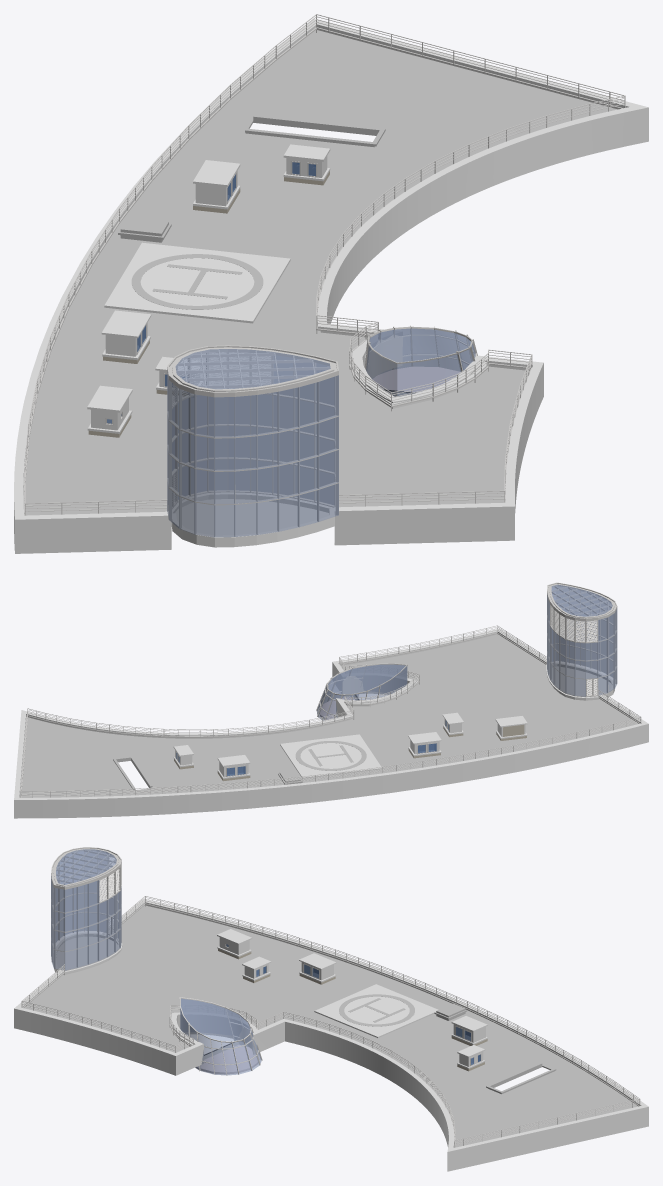
3 views of the same model, one above another, from view 1: azimuth 30°, elevation 25°; view 2: azimuth 150°, elevation 25°; view 3: azimuth 270°, elevation 25° (orthographic). The views are drawn at different scales.
Visible parts, largest first — view 1: A1-25F-Roof Floor, A1-25F-Roof Dry Wall1, Object003, A1-25F-Hand Rail, Object004, A1-25F-Heliport, A1-25F-Dry Area, A1-25F-Terrace Floor2, Object001, Object008, A1-25F-Terrace Floor1, A1-25F-Roof Dry Wall3 (+3 smaller); view 2: A1-25F-Roof Floor, A1-25F-Roof Dry Wall1, A1-25F-Hand Rail, Object003, Object004, A1-25F-Heliport, A1-25F-Dry Area, Object001, Object005, A1-25F-Terrace Floor2, A1-25F-Roof Dry Wall2, Object008 (+2 smaller); view 3: A1-25F-Roof Floor, A1-25F-Roof Dry Wall1, A1-25F-Hand Rail, Object003, A1-25F-Dry Area, Object004, A1-25F-Heliport, Object001, Object008, A1-25F-Terrace Floor2, A1-25F-Terrace Floor1, Object013 (+3 smaller).
Boxes of the visible parts, <box> form: A1-25F-Roof Floor: <box>23,30,617,515</box>; A1-25F-Roof Dry Wall1: <box>14,19,648,553</box>; Object003: <box>167,349,338,537</box>; A1-25F-Hand Rail: <box>24,14,625,515</box>; Object004: <box>167,345,338,536</box>; A1-25F-Heliport: <box>104,242,290,323</box>; A1-25F-Dry Area: <box>87,144,330,437</box>; A1-25F-Terrace Floor2: <box>171,492,334,547</box>; Object001: <box>366,328,470,396</box>; Object008: <box>370,329,475,370</box>; A1-25F-Terrace Floor1: <box>372,367,459,391</box>; A1-25F-Roof Dry Wall3: <box>166,340,486,536</box>; A1-25F-Roof Floor: <box>19,634,638,797</box>; A1-25F-Roof Dry Wall1: <box>14,628,648,818</box>; A1-25F-Hand Rail: <box>20,625,641,797</box>; Object003: <box>547,584,617,696</box>; Object004: <box>547,582,617,695</box>; A1-25F-Heliport: <box>280,734,381,778</box>; A1-25F-Dry Area: <box>173,712,527,781</box>; Object001: <box>328,664,407,697</box>; Object005: <box>550,604,597,696</box>; A1-25F-Terrace Floor2: <box>551,663,614,700</box>; A1-25F-Roof Dry Wall2: <box>26,634,632,738</box>; Object008: <box>320,667,379,715</box>; A1-25F-Roof Floor: <box>24,905,638,1147</box>; A1-25F-Roof Dry Wall1: <box>14,899,648,1171</box>; A1-25F-Hand Rail: <box>21,896,640,1147</box>; Object003: <box>51,849,121,970</box>; A1-25F-Dry Area: <box>217,929,487,1071</box>; Object004: <box>51,847,121,967</box>; A1-25F-Heliport: <box>314,984,438,1037</box>; Object001: <box>180,998,250,1041</box>; Object008: <box>189,1009,258,1064</box>; A1-25F-Terrace Floor2: <box>53,933,120,974</box>; A1-25F-Terrace Floor1: <box>196,1045,258,1074</box>; Object013: <box>195,1037,261,1075</box>.
Size of the model in its own units: 67.6 by 13.64 by 71.71.
